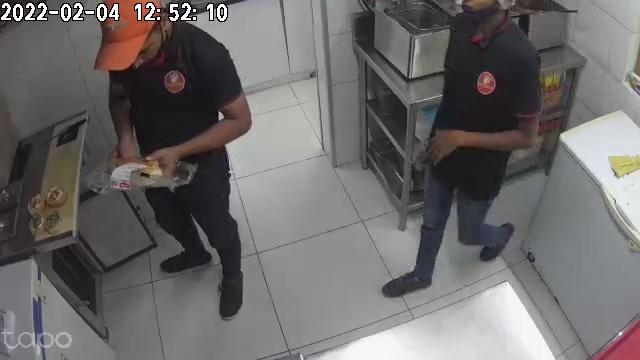no_gloves: (424, 130, 473, 165)
